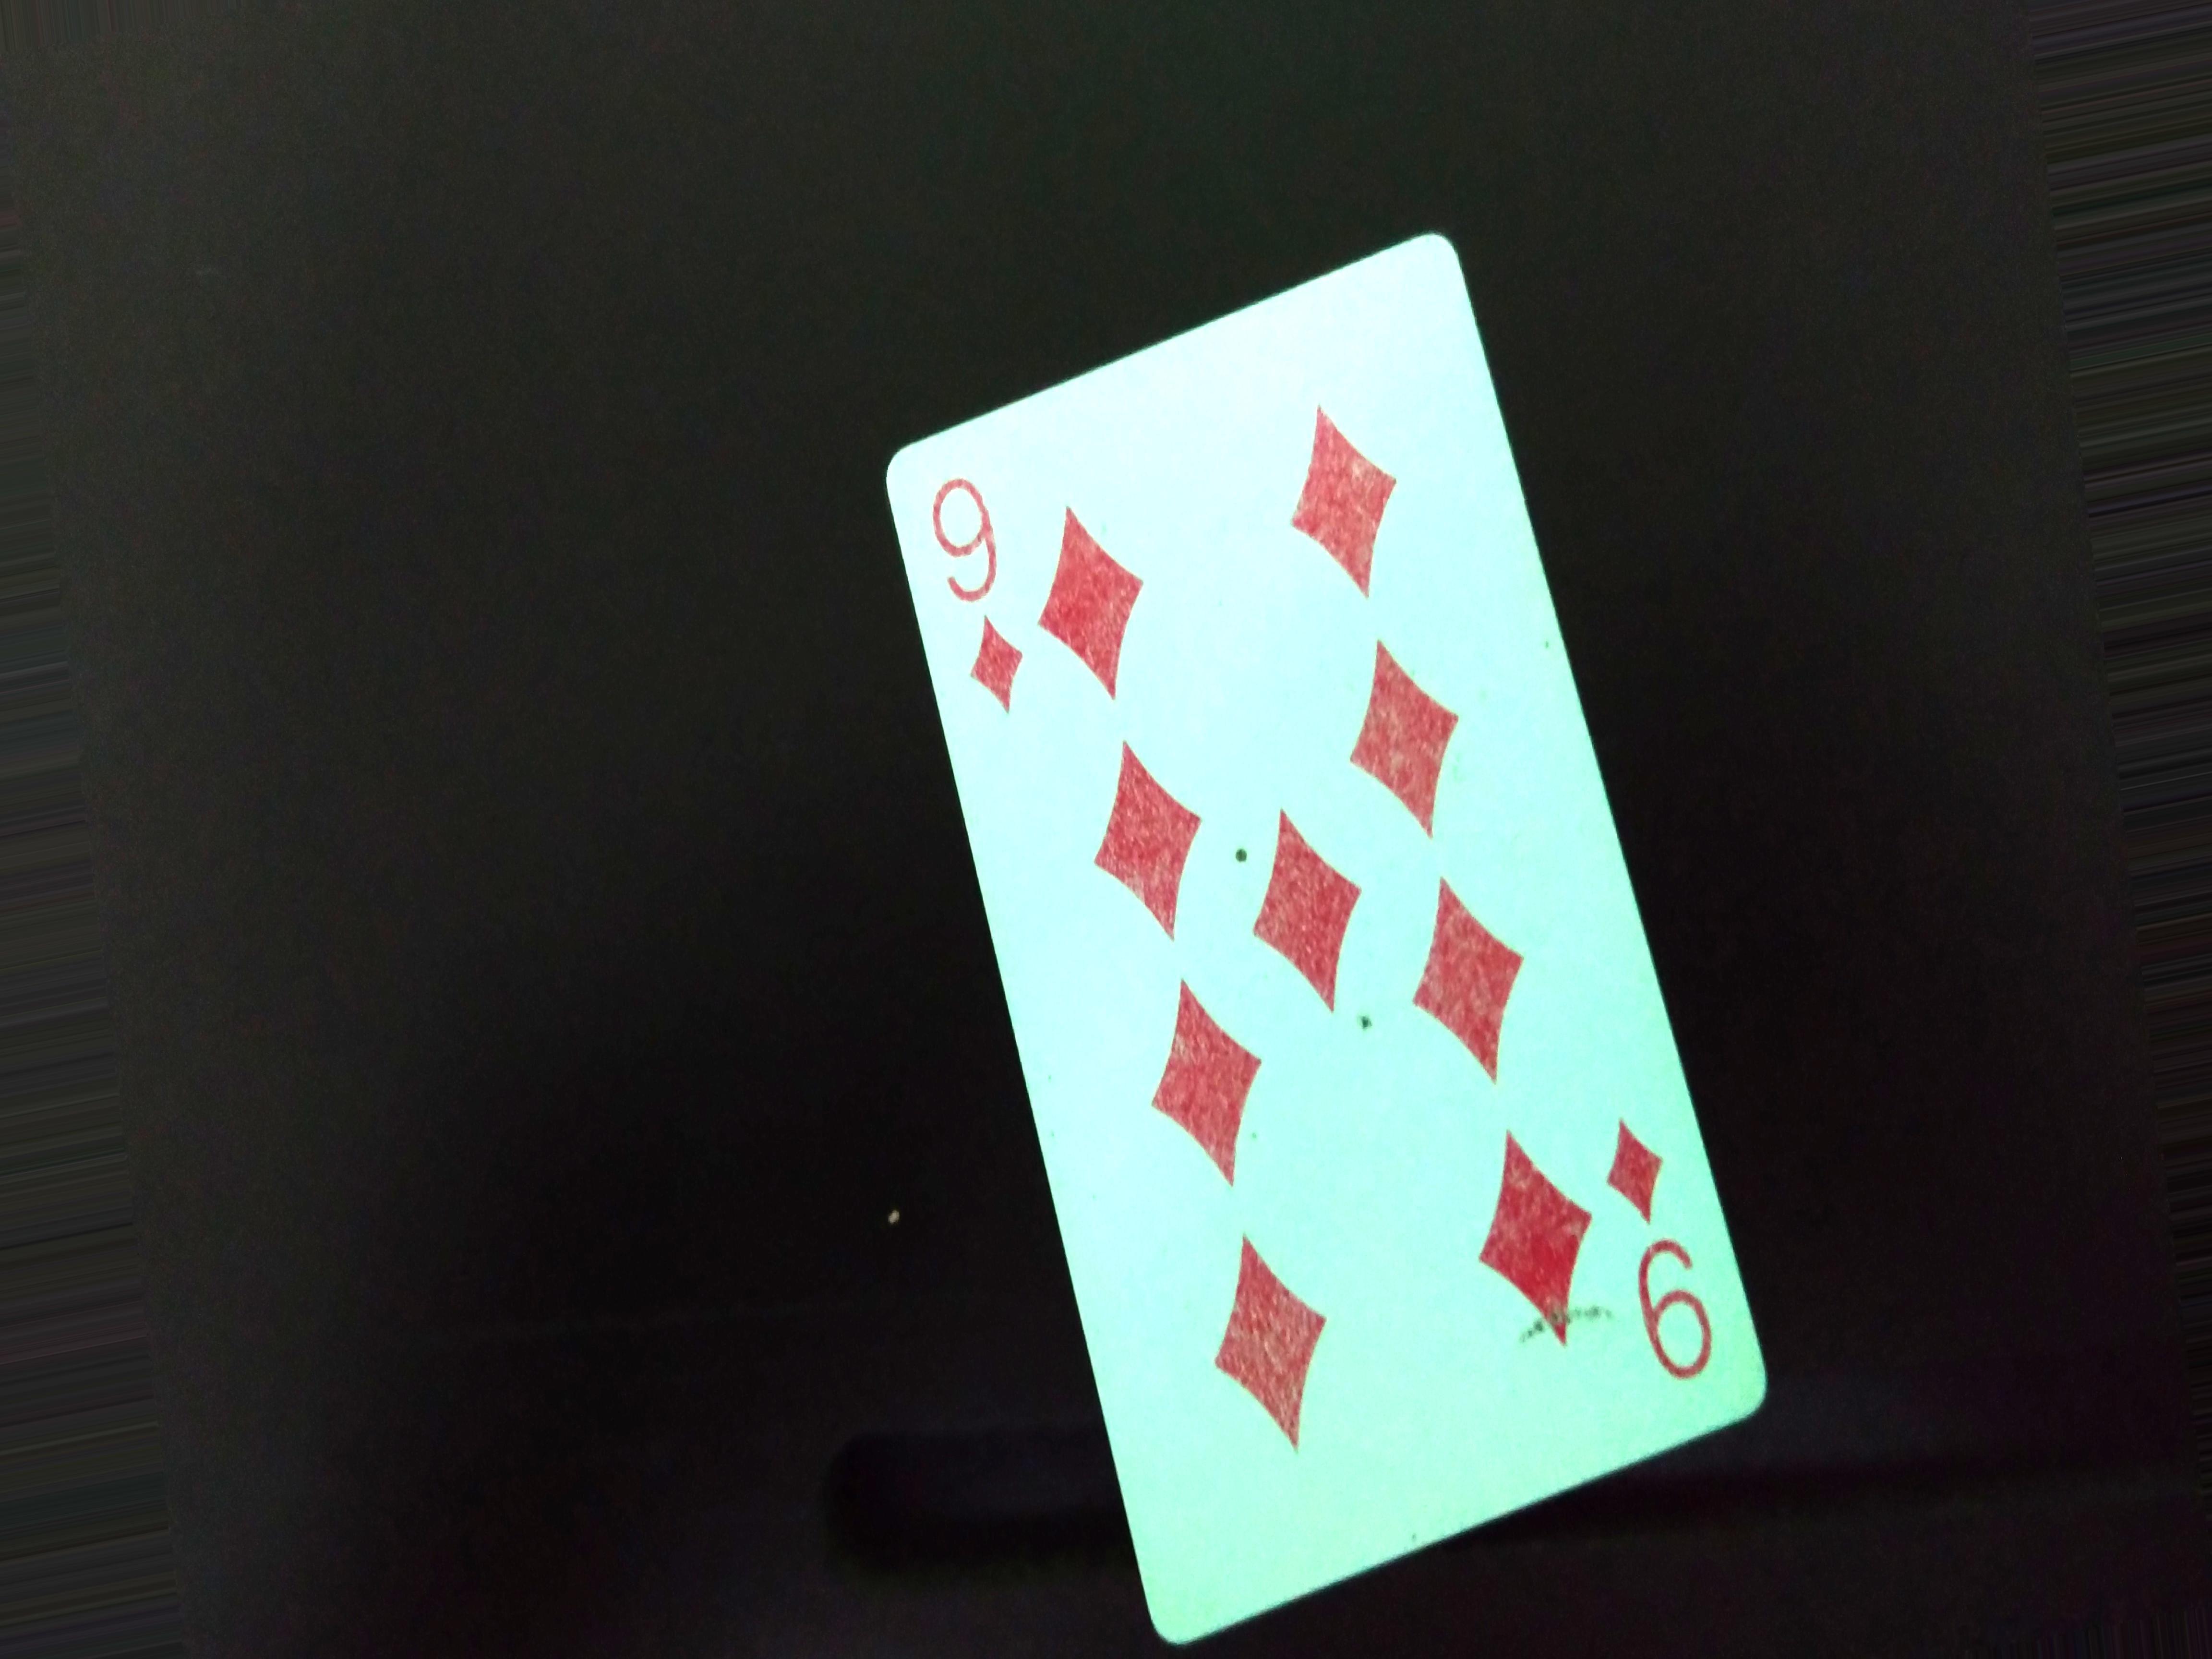9D: (1601, 1114, 1750, 1455)
